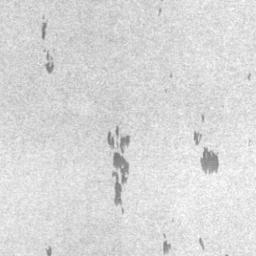Iron scale compression: (107, 127, 131, 207), (200, 148, 219, 175), (44, 48, 54, 74), (193, 130, 203, 145), (42, 20, 48, 43), (198, 238, 206, 251), (163, 243, 171, 256), (45, 247, 52, 256), (200, 113, 205, 124)
